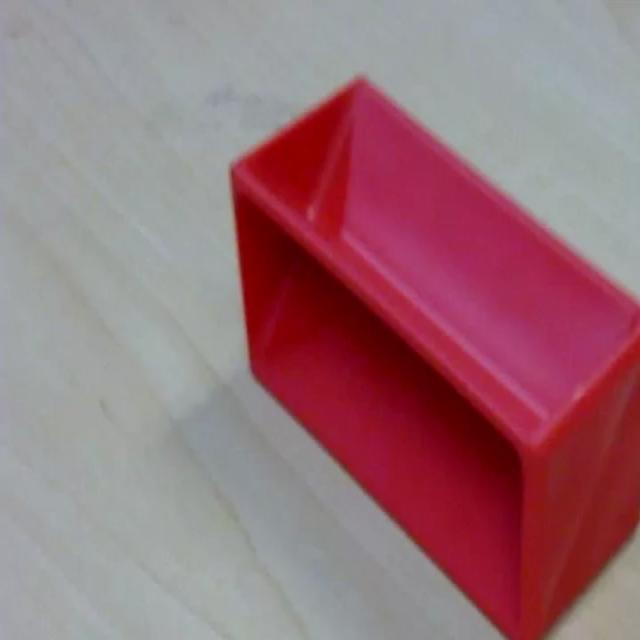red_block: (227, 72, 638, 636)
